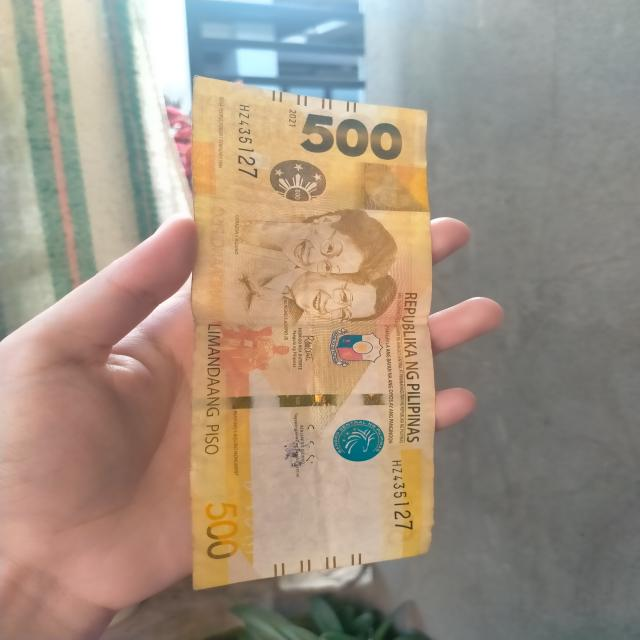concealed_value: (349, 157, 434, 215)
optically_variable_device: (257, 146, 338, 212)
security_thread: (199, 389, 435, 408)
see_through_mark: (232, 473, 263, 558)
serial_number: (378, 453, 419, 536), (230, 94, 262, 186)
